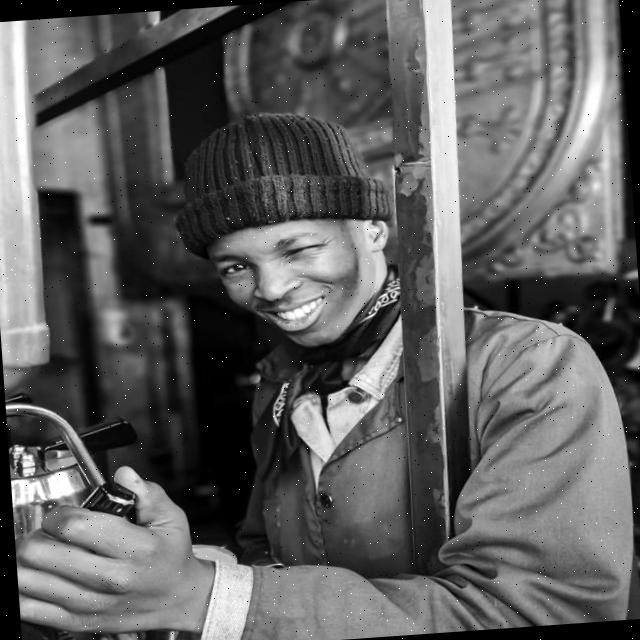Happiness: (204, 208, 396, 359)
